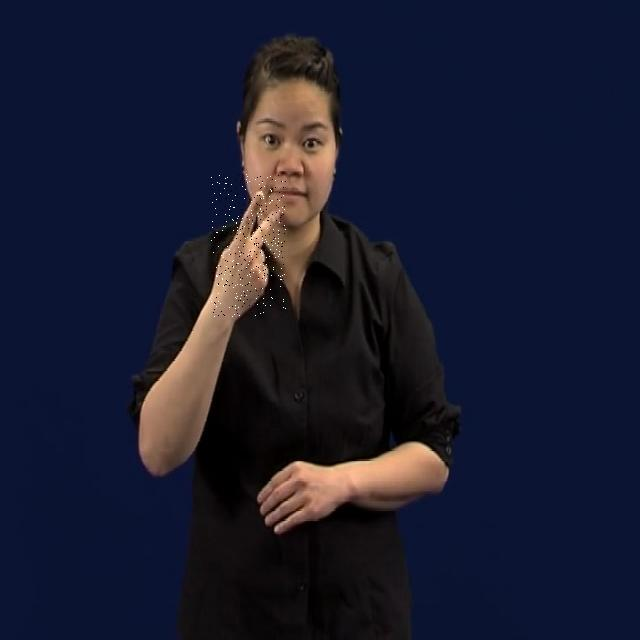vegetables: (210, 174, 286, 317)
